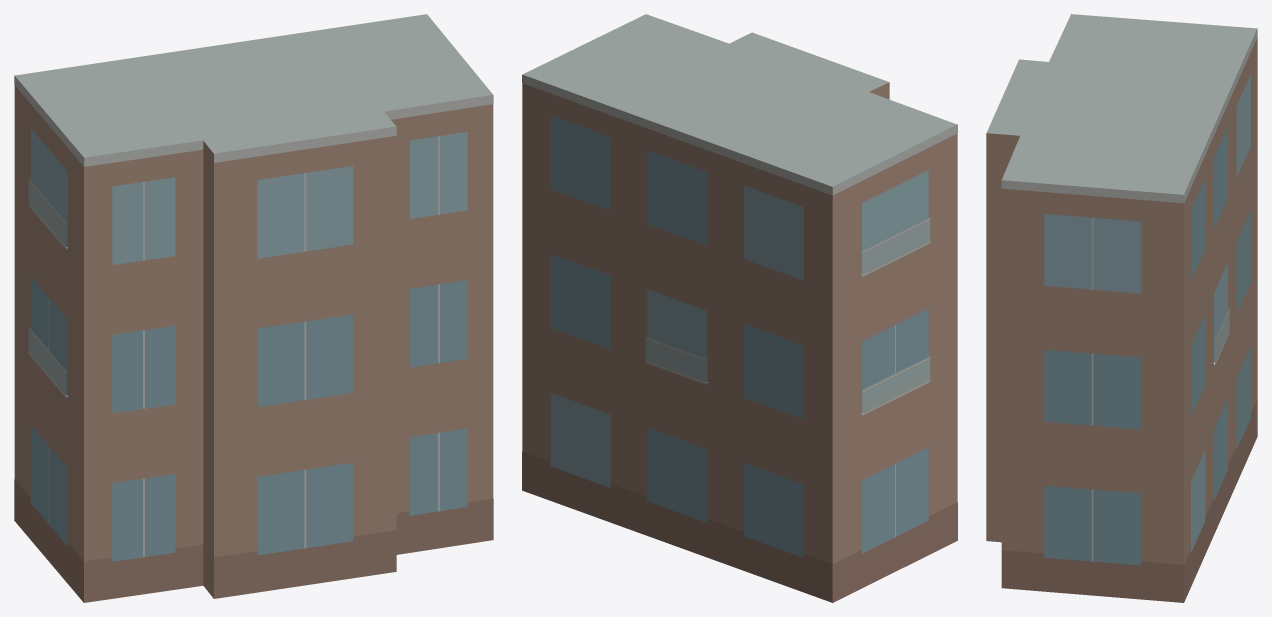
The model's file is survey-upis-32902491.glb.
3 views of the same model, side by side, from view 1: azimuth 30°, elevation 25°; view 2: azimuth 150°, elevation 25°; view 3: azimuth 270°, elevation 25° (orthographic). The views are drawn at different scales.
Visible parts, largest first — view 1: survey-upis-32902491.tmp; view 2: survey-upis-32902491.tmp; view 3: survey-upis-32902491.tmp.
Boxes of the visible parts, x1,y1,x2,y2 form: survey-upis-32902491.tmp: (14,14,493,602); survey-upis-32902491.tmp: (522,14,957,602); survey-upis-32902491.tmp: (986,14,1257,602).
Bounding box in the file's own units: 11.23 × 11.8 × 7.12.
